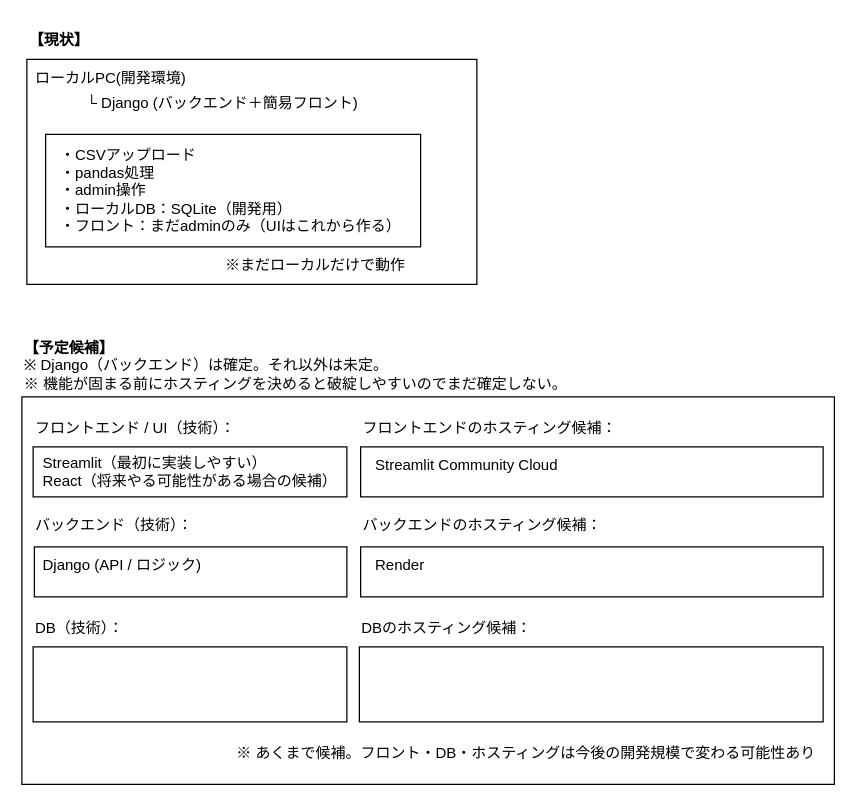
Image size: 864x806. Some labels were removed from this diagram. Here are the shapes that lost their labels. From the top down, the centre of each, then its label:
the point at 189,684: SQLite（開発） → PostgreSQL（候補） → MySQL（候補）
the point at 590,684: ・Render のマネージドDB（PostgreSQL） ・外部DB（例えば：AWS RDS / Clever Cloud / Supabase など）
